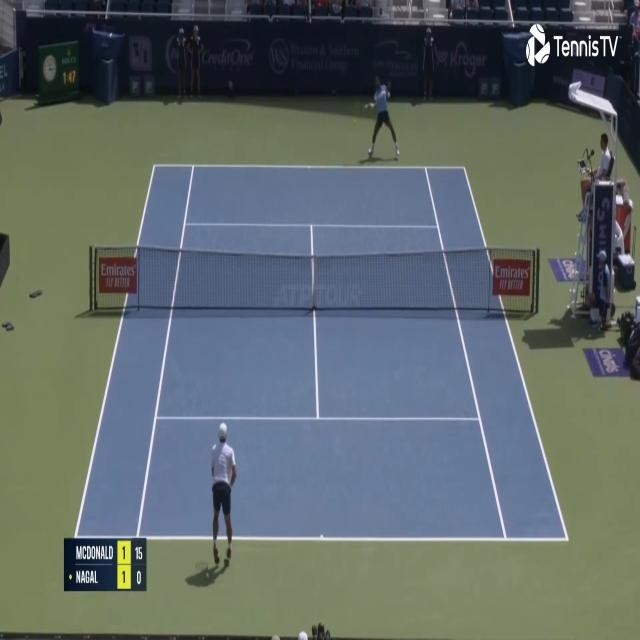tennis-player: (207, 418, 239, 572), (360, 70, 403, 165)
